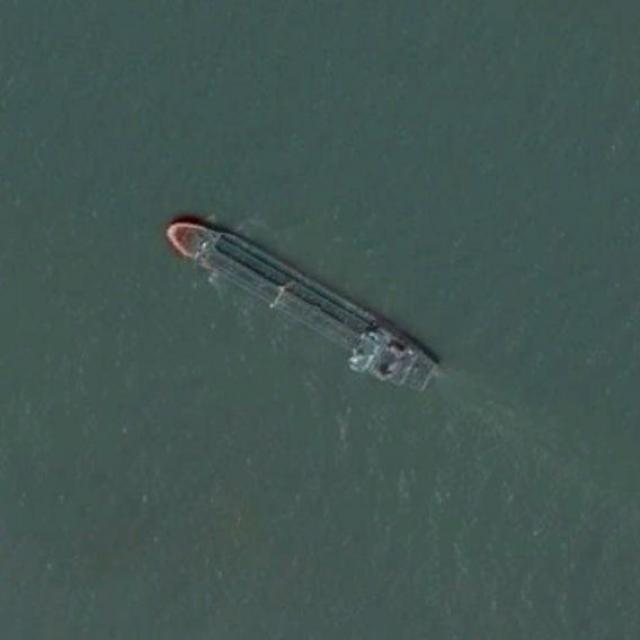ship: (163, 216, 440, 394)
